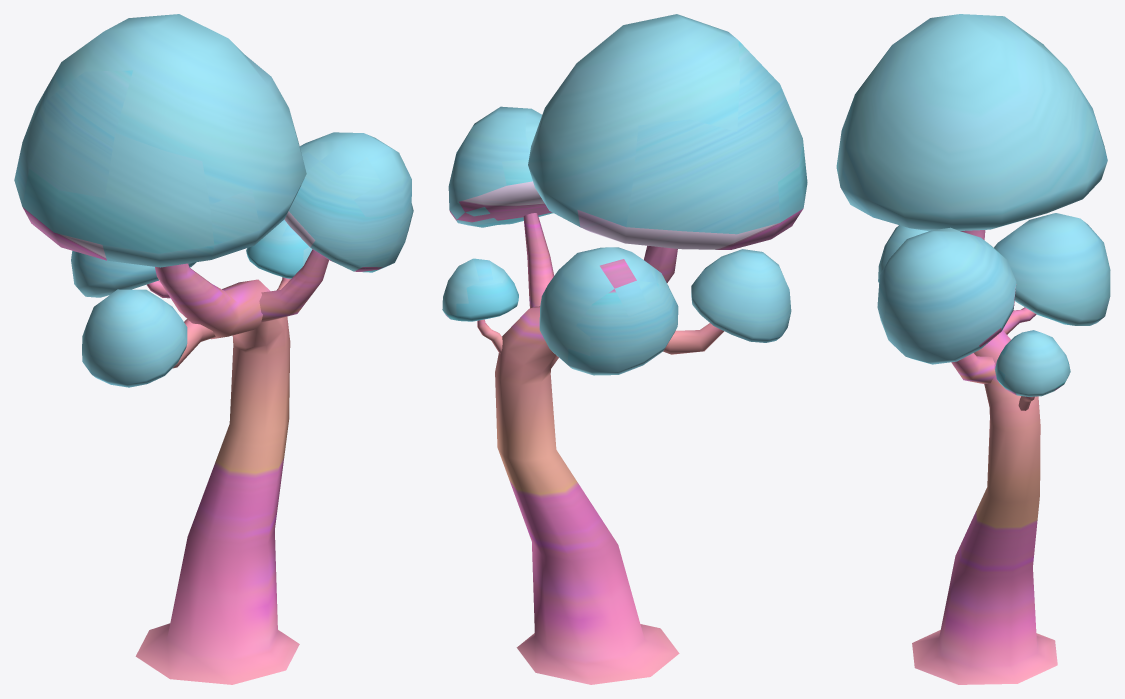
File: grande_seta13.fbx
The picture shows the model from 3 angles, left to right: view 1: azimuth 30°, elevation 25°; view 2: azimuth 150°, elevation 25°; view 3: azimuth 270°, elevation 25°; orthographic projection. The views are drawn at different scales.
Visible parts, largest first — view 1: SetaXL_13; view 2: SetaXL_13; view 3: SetaXL_13.
Boxes of the visible parts, x1,y1,x2,y2 form: SetaXL_13: (14, 14, 413, 684); SetaXL_13: (442, 14, 807, 684); SetaXL_13: (836, 14, 1110, 684).
Bounding box in the file's own units: 6507 × 11475 × 4702.
Materials: 1 (1 with a texture image).
